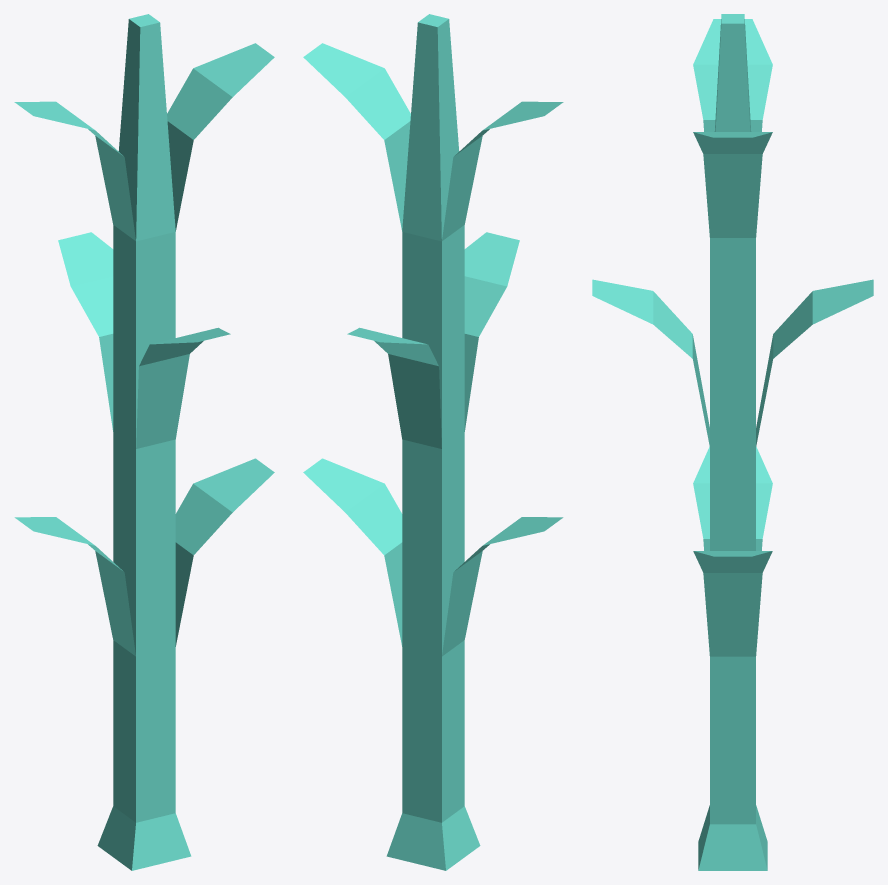
The model's file is crops_cornStageB.glb.
The picture shows the model from 3 angles, left to right: view 1: azimuth 30°, elevation 25°; view 2: azimuth 150°, elevation 25°; view 3: azimuth 270°, elevation 25°; orthographic projection.
Parts seen in each view (by area): view 1: crops_cornStageB; view 2: crops_cornStageB; view 3: crops_cornStageB.
Part boxes in pixels (x1=…): crops_cornStageB: x1=14, y1=14, x2=274, y2=870; crops_cornStageB: x1=303, y1=14, x2=563, y2=870; crops_cornStageB: x1=592, y1=14, x2=873, y2=870.
Bounding box in the file's own units: 0.3042 × 1 × 0.3042.
